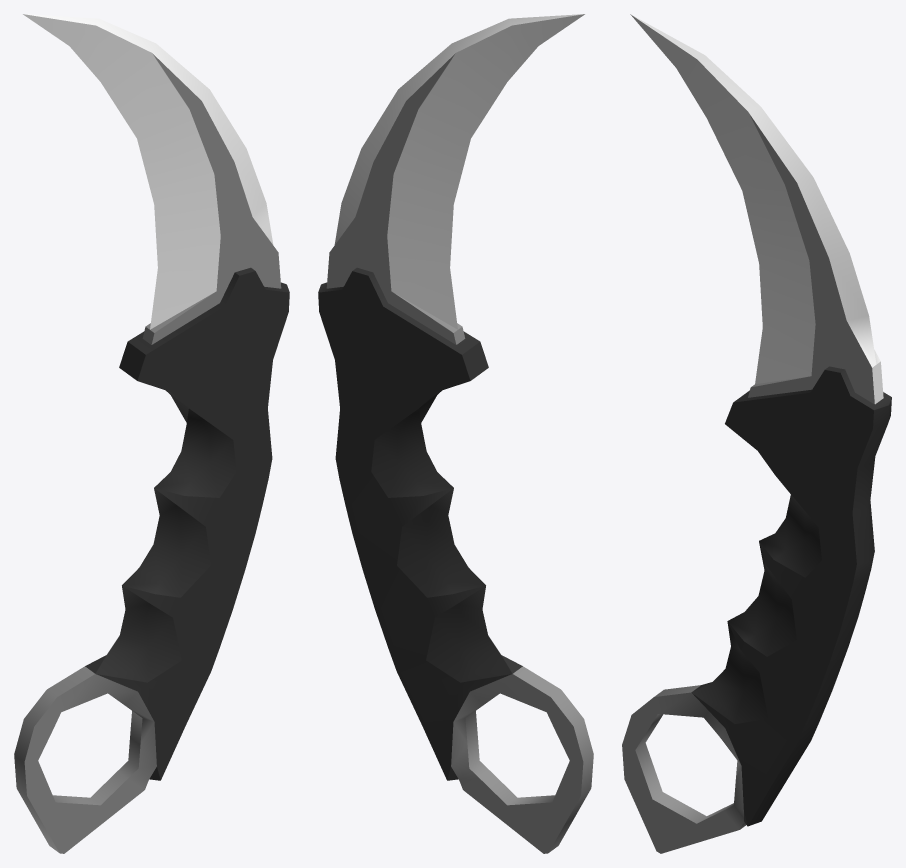
Rendered from karambit.fbx.
3 renders of one model, left to right at view 1: azimuth 30°, elevation 25°; view 2: azimuth 150°, elevation 25°; view 3: azimuth 330°, elevation 25°, orthographic. The views are drawn at different scales.
Parts seen in each view (by area): view 1: karambit9; view 2: karambit9; view 3: karambit9.
Boxes of the visible parts, left/top/right/bottom form: karambit9: left=14, top=14, right=289, bottom=853; karambit9: left=318, top=14, right=593, bottom=853; karambit9: left=622, top=14, right=891, bottom=853.
Bounding box in the file's own units: 1.28 × 3.88 × 0.1523.
Materials: 1 (1 with a texture image).
